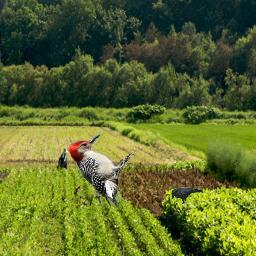Crow: (172, 188, 203, 205)
Woodpecker: (65, 132, 137, 208)
